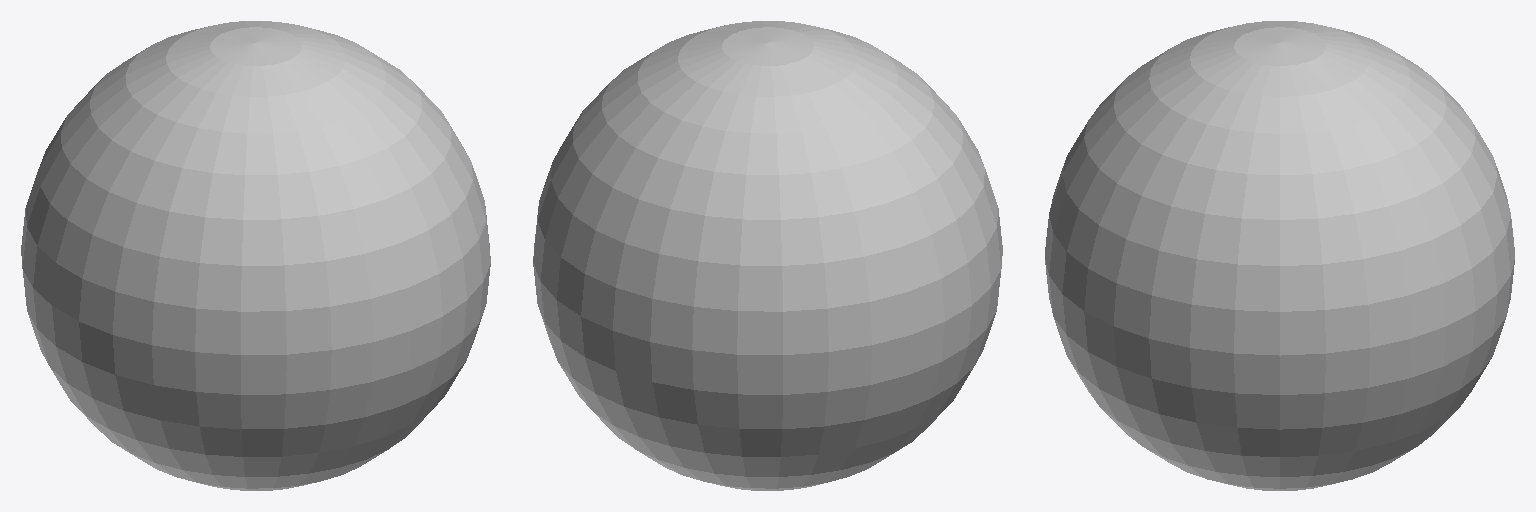
File: venus.obj
The picture shows the model from 3 angles: view 1: azimuth 30°, elevation 25°; view 2: azimuth 150°, elevation 25°; view 3: azimuth 270°, elevation 25°; orthographic projection.
Visible parts, largest first — view 1: Sphere.002_Material.003_0; view 2: Sphere.002_Material.003_0; view 3: Sphere.002_Material.003_0.
Part boxes in pixels (x1,y1,x2,y2): Sphere.002_Material.003_0: (21,21,490,490); Sphere.002_Material.003_0: (533,21,1002,490); Sphere.002_Material.003_0: (1045,21,1514,490).
Bounding box in the file's own units: 1.23 × 1.23 × 1.23.